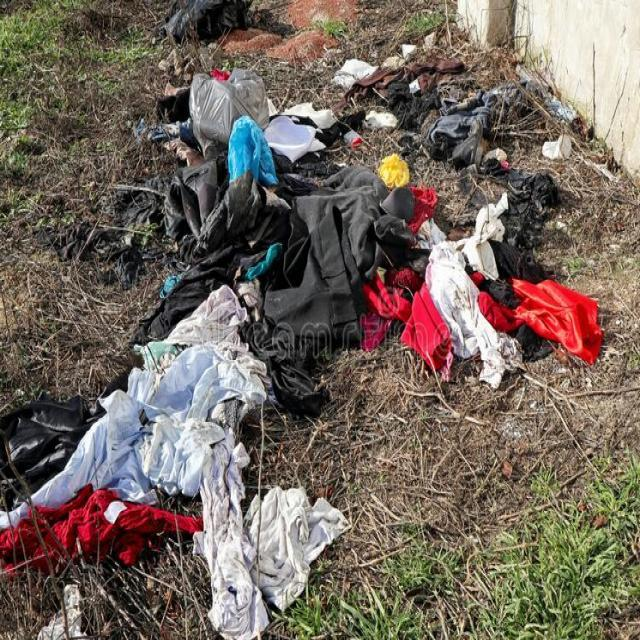clothes: (127, 188, 515, 378)
